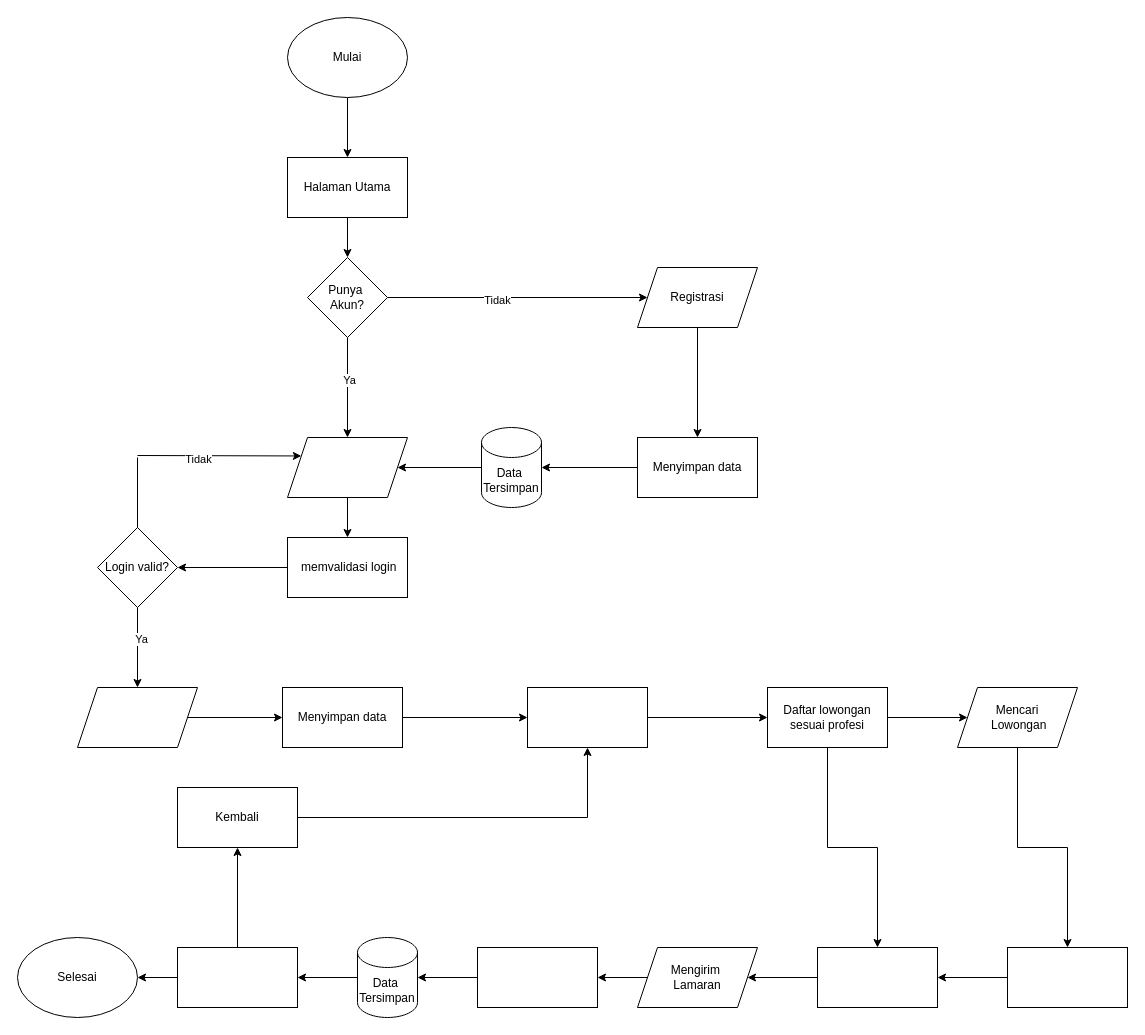
Image size: 1145x1035. Some labels were removed from this diagram. Here are the shapes that lost their labels. From the top down, the centre of each, then its label:
point 347,467: Login
point 137,717: Melengkapi profil & CV
point 587,717: Masuk Dashboard
point 237,977: Menunggu Status Lamaran
point 537,977: Simpan data
point 877,977: Memilih Lowongan
point 1067,977: Menampilkan daftar lowongan
